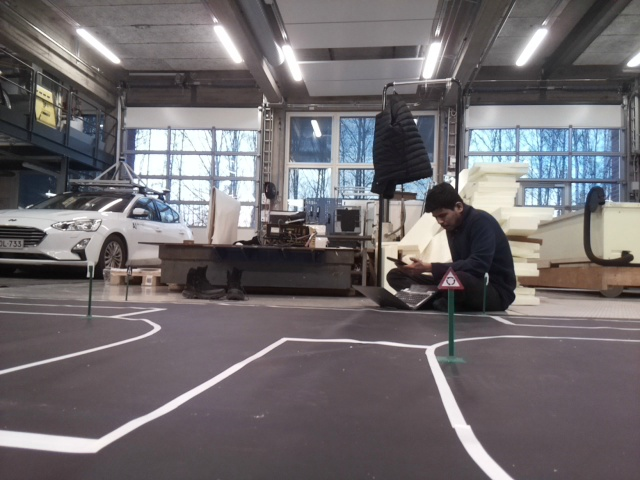Roundabout: (437, 266, 466, 289)
